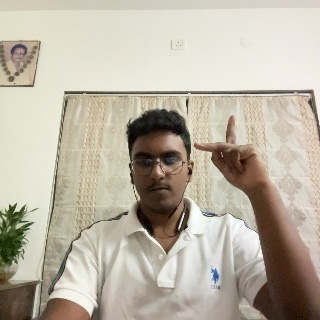Okay: (195, 109, 275, 212)
